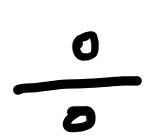div: (13, 32, 142, 130)
